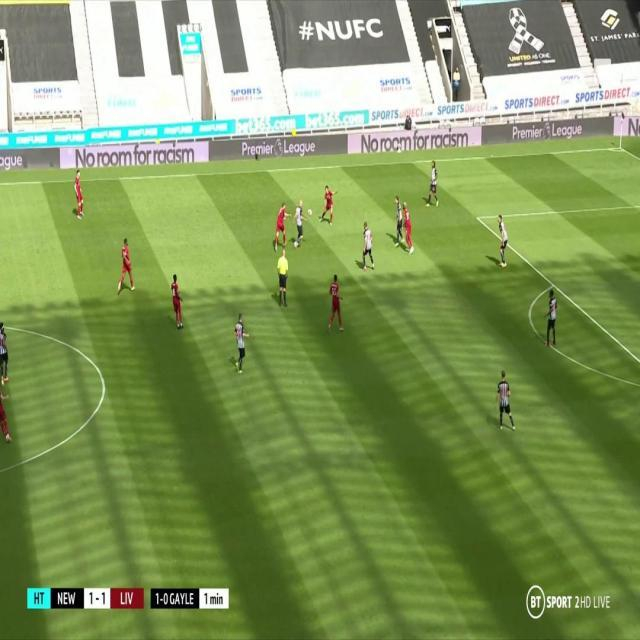ball: (307, 207, 313, 219)
player: (494, 370, 517, 437), (229, 312, 250, 375), (326, 273, 345, 337), (114, 238, 135, 293), (0, 370, 15, 444), (359, 219, 378, 272), (544, 287, 559, 349), (169, 272, 185, 329), (0, 317, 14, 382), (425, 158, 441, 211), (401, 202, 417, 254), (320, 185, 338, 228), (291, 198, 306, 249), (496, 215, 509, 272), (274, 203, 288, 253), (392, 195, 404, 252), (72, 169, 86, 216)
referee: (273, 249, 290, 307)
